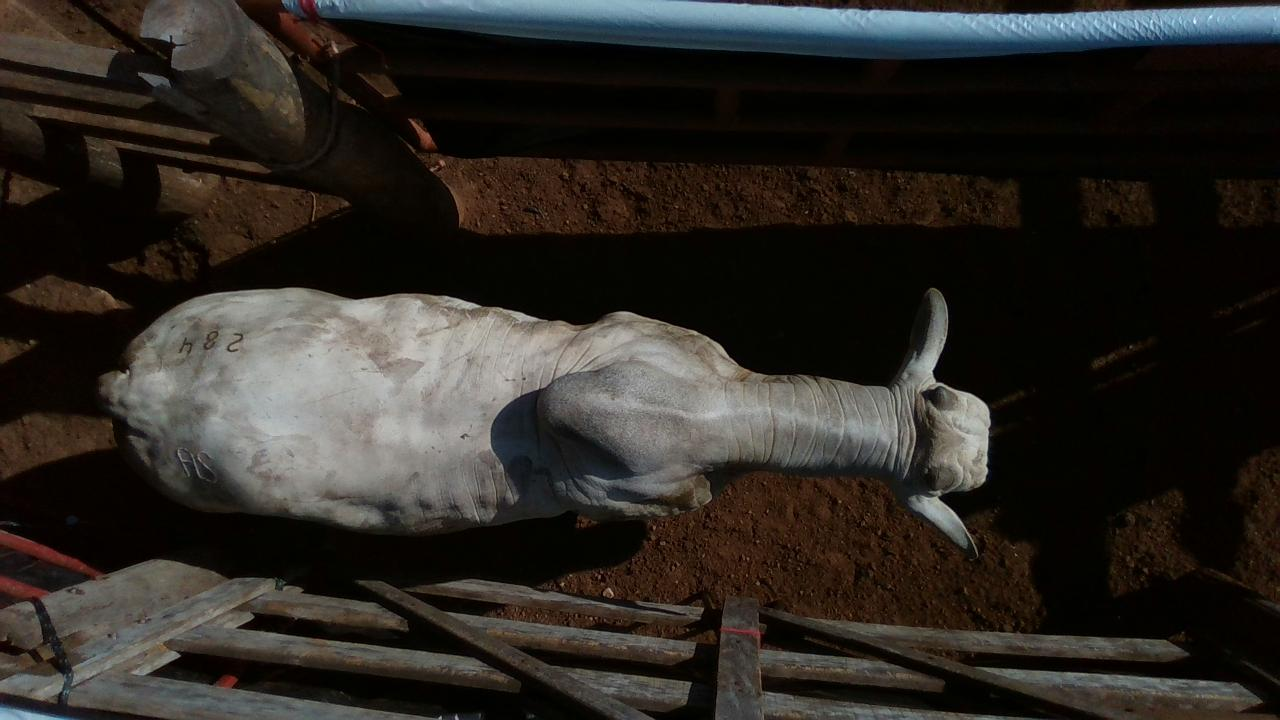cattle: (94, 282, 993, 559)
